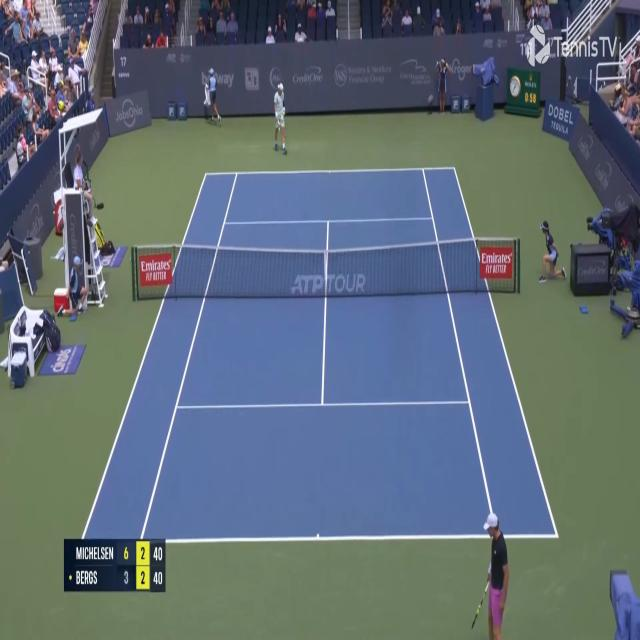tennis-player: (471, 508, 512, 639), (273, 82, 288, 156)
